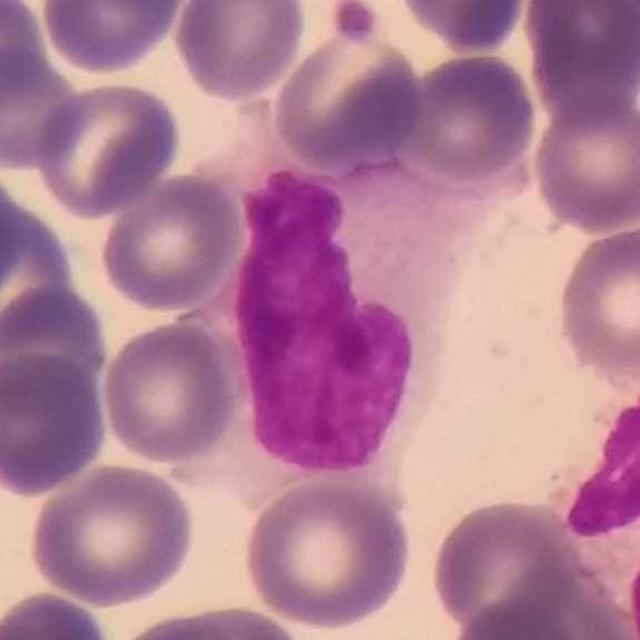Monocyte: (234, 146, 511, 494), (552, 373, 640, 629)
Platelets: (330, 0, 380, 45)
RBC: (238, 474, 415, 632), (268, 13, 428, 176), (27, 460, 199, 608), (95, 169, 247, 315), (425, 494, 580, 637), (97, 316, 241, 468), (31, 77, 185, 219), (400, 49, 541, 184), (0, 347, 112, 499), (527, 91, 640, 235), (0, 176, 85, 366), (0, 278, 111, 414), (169, 0, 311, 104), (551, 219, 640, 380), (521, 1, 640, 119), (0, 41, 90, 173), (37, 0, 188, 76), (437, 589, 632, 639), (388, 0, 531, 53), (137, 601, 313, 640), (0, 587, 114, 640), (0, 1, 49, 109), (0, 159, 26, 306)
